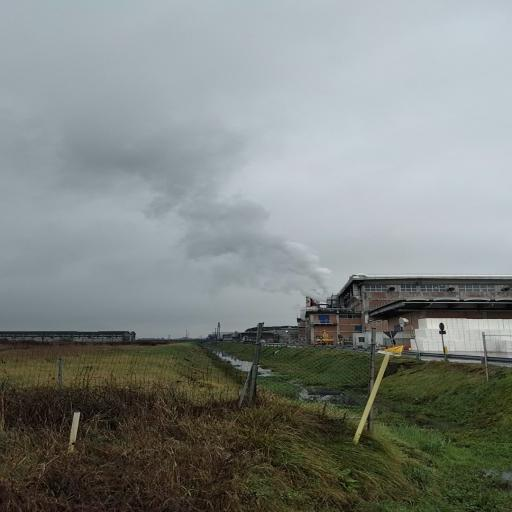leakage: (45, 108, 343, 315)
